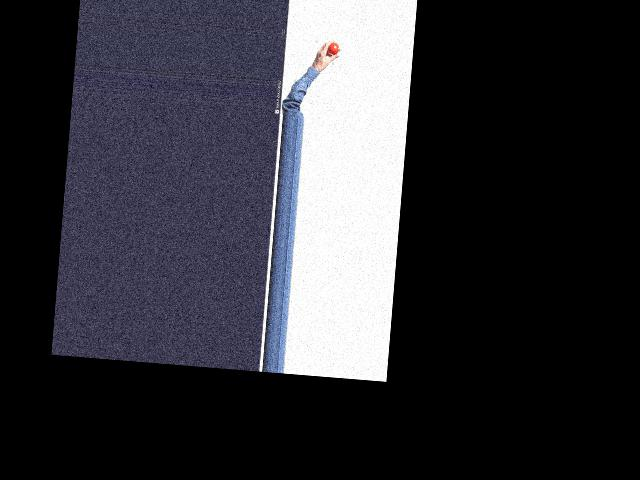tomato: (328, 41, 338, 54)
